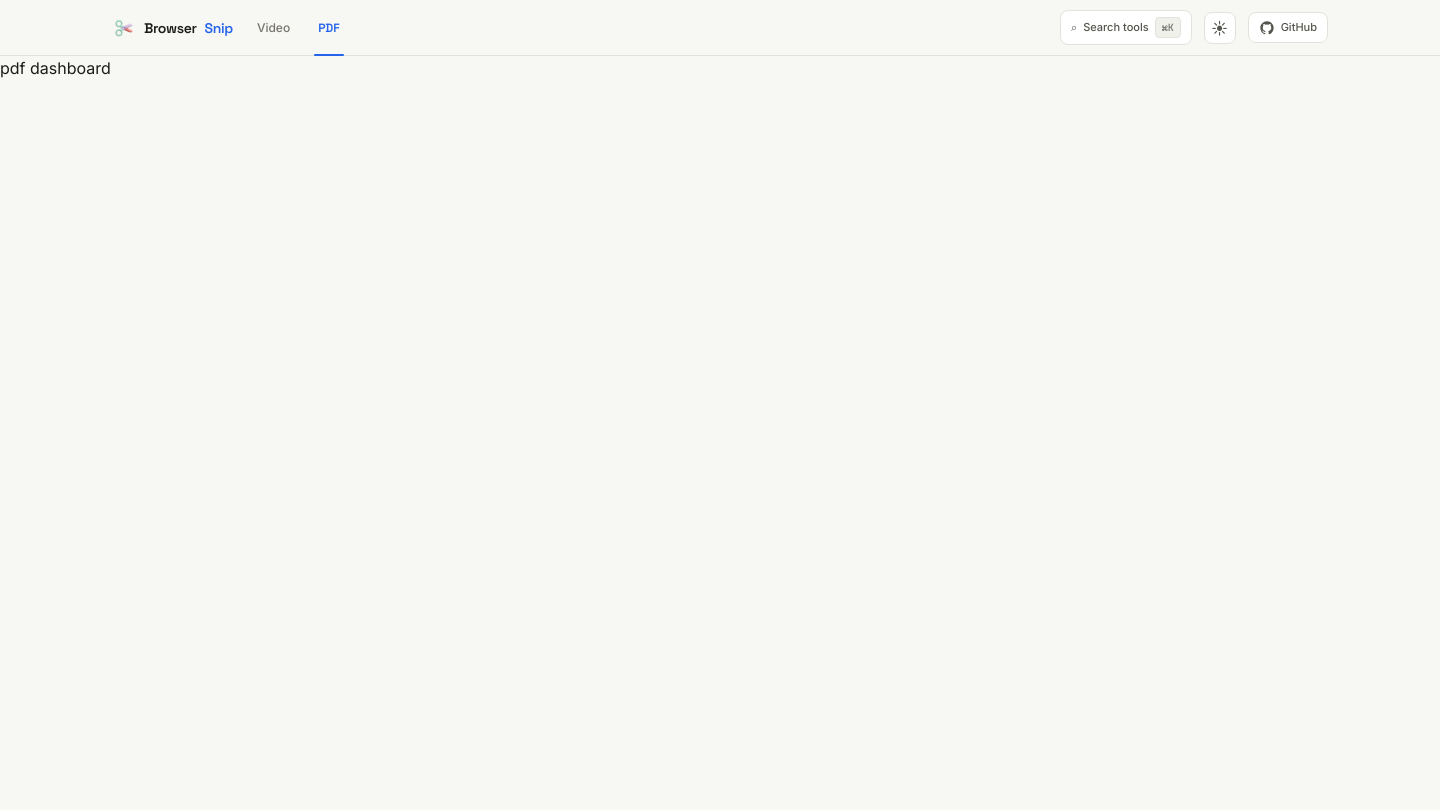
Test case: command palette › says so when nothing matches
Press k
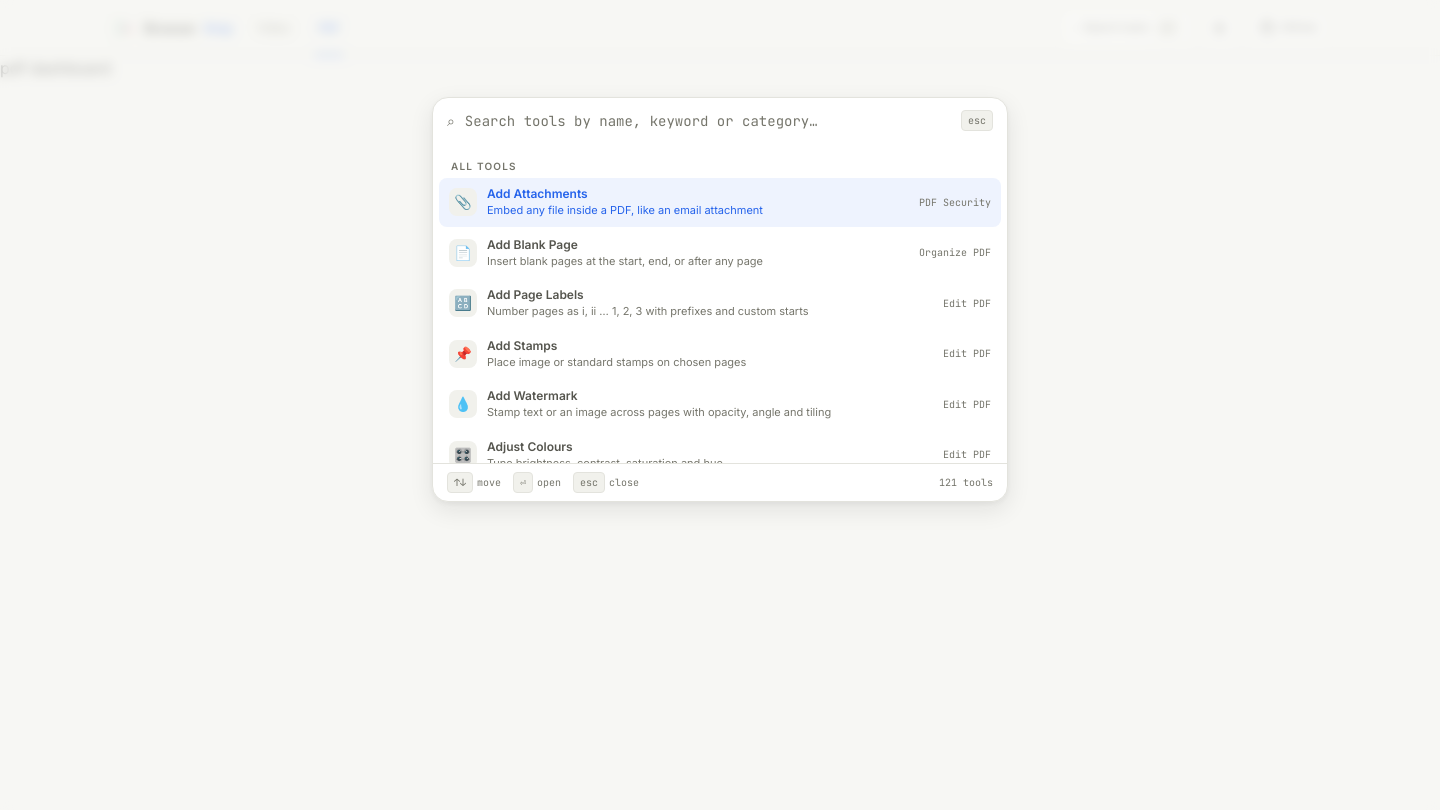
Type "qqqzzzxxx" into the dropdown labelled "Search tools". click: (708, 121)
box: top-left (465, 111), bottom-right (951, 131)
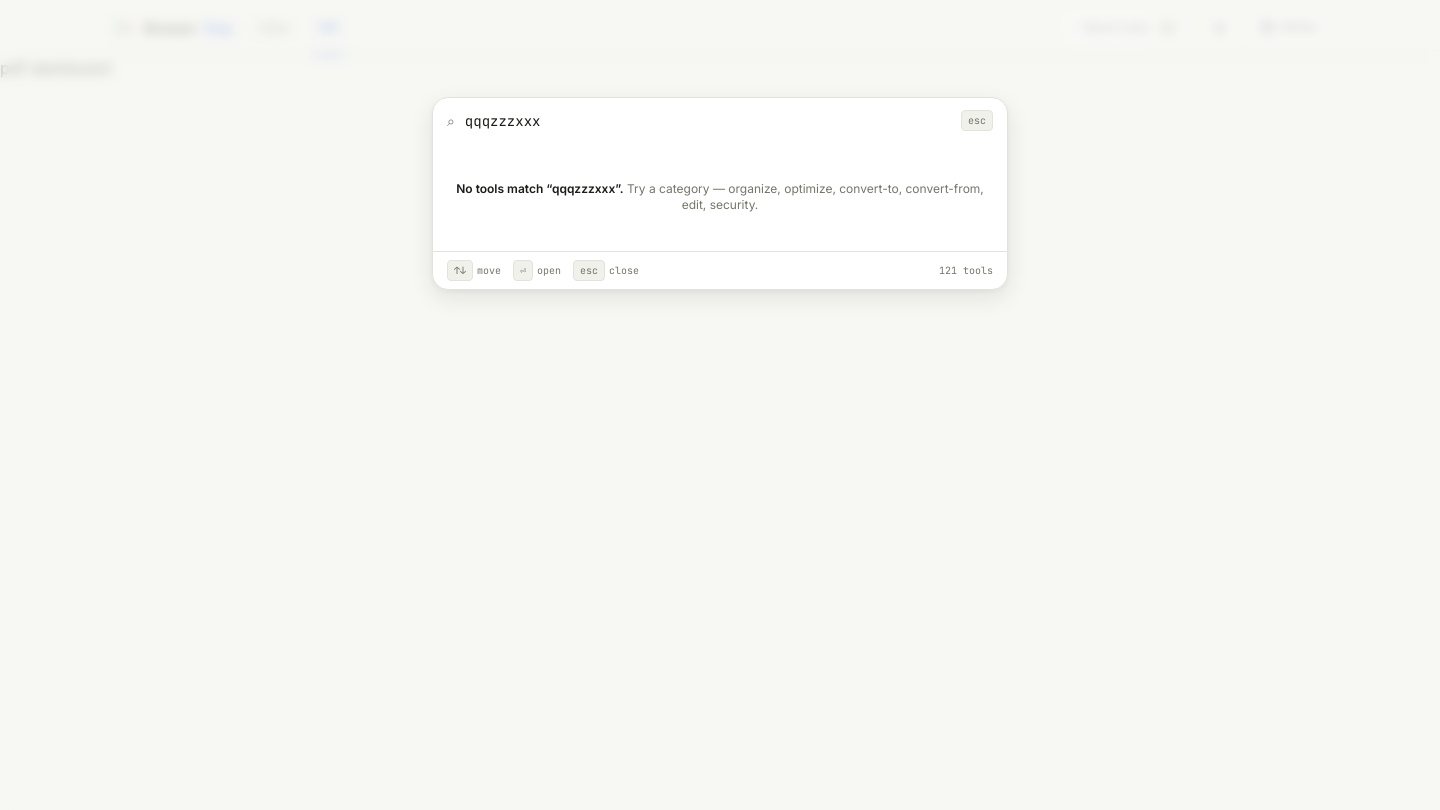
Expected: the message shows "No tools match", top-left (456, 181), bottom-right (552, 196)
Expected: the option is gone
